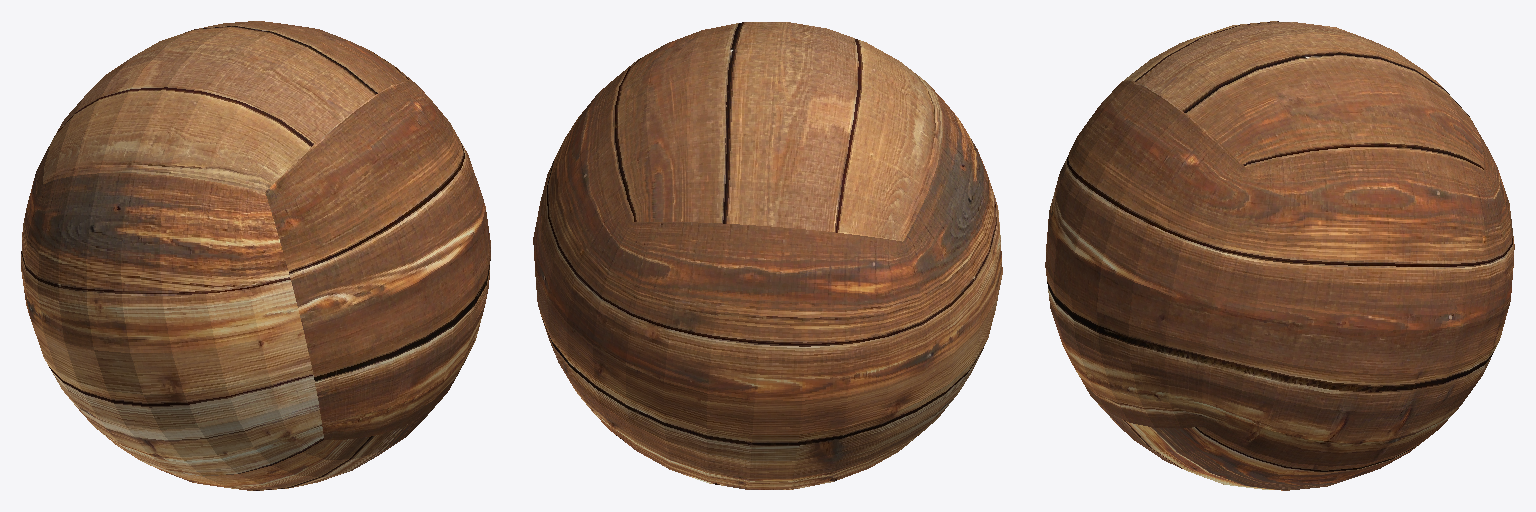
3 renders of one model, left to right at view 1: azimuth 30°, elevation 25°; view 2: azimuth 150°, elevation 25°; view 3: azimuth 270°, elevation 25°, orthographic.
Parts seen in each view (by area): view 1: Venus; view 2: Venus; view 3: Venus.
Part boxes in pixels (left/top/right/bottom): Venus: left=21, top=21, right=490, bottom=490; Venus: left=533, top=22, right=1002, bottom=489; Venus: left=1045, top=21, right=1514, bottom=490.
Bounding box in the file's own units: 1.21 × 1.21 × 1.21.
1 materials, 1 textured.